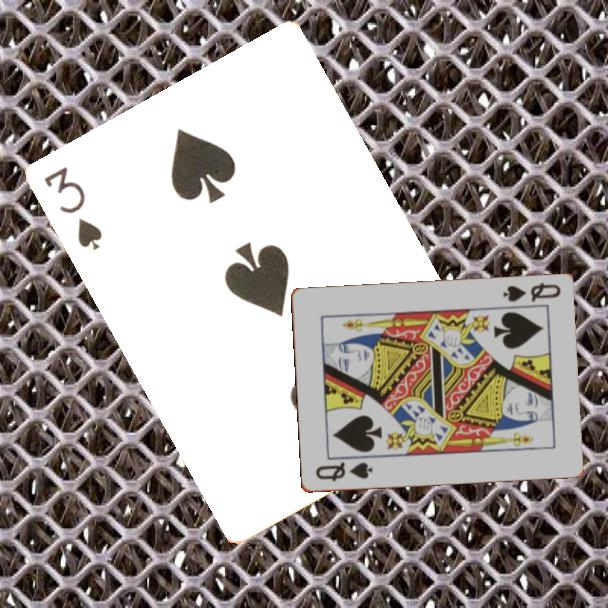s03: (41, 163, 106, 253)
s12: (499, 279, 563, 305), (312, 459, 375, 485)
